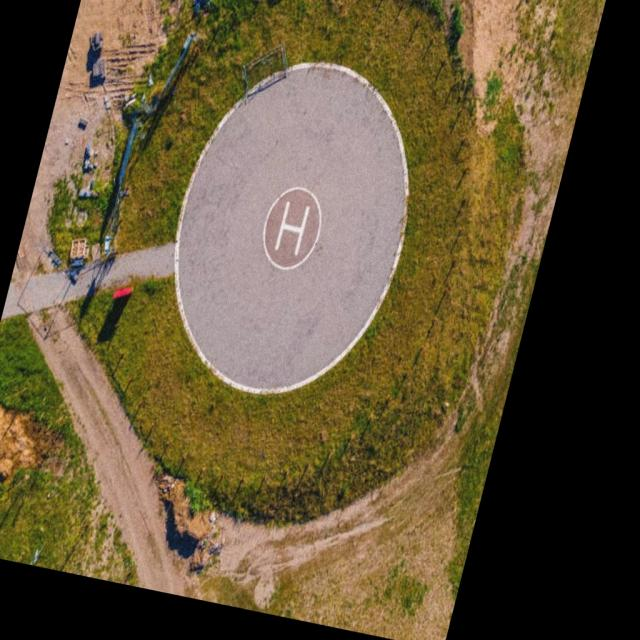helipad: (259, 182, 323, 272)
